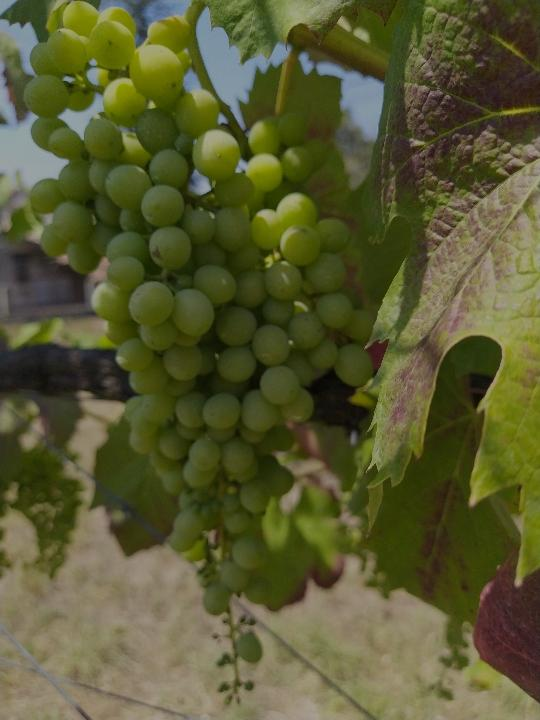grape: (22, 1, 371, 711)
